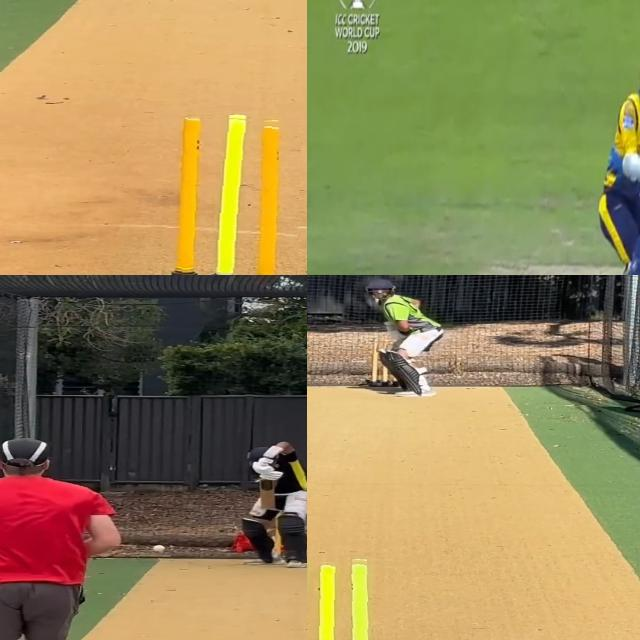Cricket ball: (151, 544, 167, 552)
Stumps: (161, 114, 302, 275), (307, 554, 395, 640)
